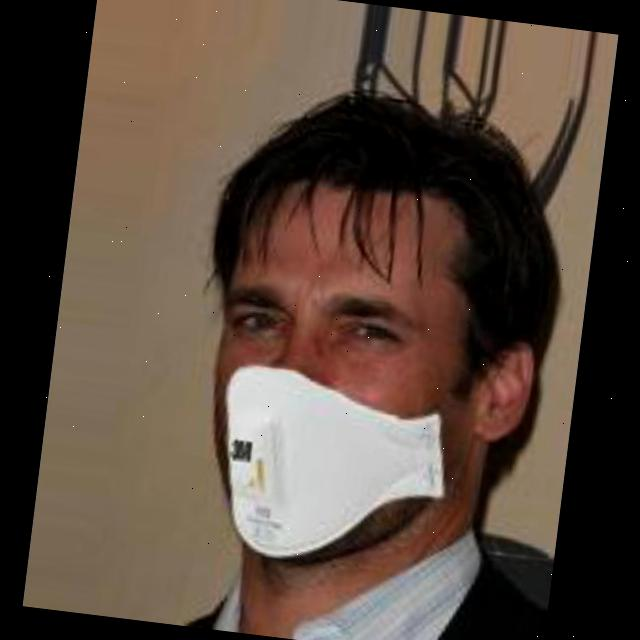suspicion: (133, 82, 535, 578)
